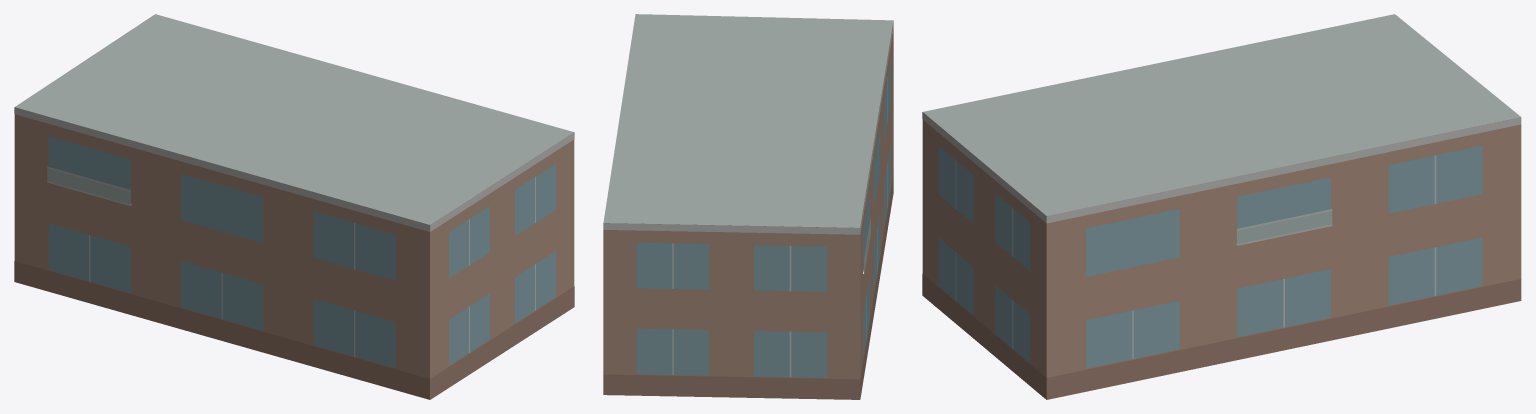
Rendered from survey-upis-32746334.glb.
3 renders of one model, left to right at view 1: azimuth 30°, elevation 25°; view 2: azimuth 150°, elevation 25°; view 3: azimuth 270°, elevation 25°, orthographic. The views are drawn at different scales.
Visible parts, largest first — view 1: survey-upis-32746334.tmp; view 2: survey-upis-32746334.tmp; view 3: survey-upis-32746334.tmp.
Part boxes in pixels (left/top/right/bottom): survey-upis-32746334.tmp: left=14, top=14, right=574, bottom=399; survey-upis-32746334.tmp: left=603, top=14, right=893, bottom=399; survey-upis-32746334.tmp: left=922, top=14, right=1521, bottom=399.
Size of the model in its own units: 14.4 by 6.1 by 18.02.
